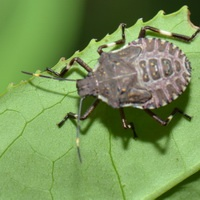insect: (22, 24, 199, 162)
